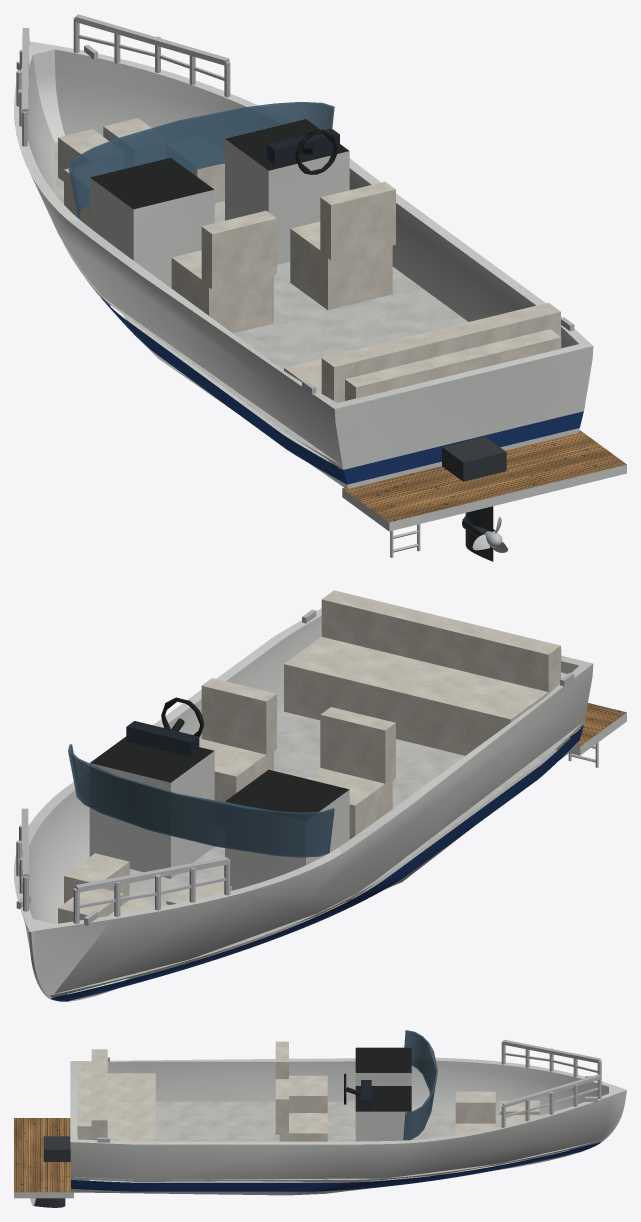
The model's file is boat_speedboat.glb.
3 views of the same model, one above another, from view 1: azimuth 30°, elevation 25°; view 2: azimuth 150°, elevation 25°; view 3: azimuth 270°, elevation 25° (orthographic). The views are drawn at different scales.
Parts seen in each view (by area): view 1: Engine hatch and swim platform, Hull, Helm console and windscreen, Bow rails and cleats, Sterndrive; view 2: Engine hatch and swim platform, Helm console and windscreen, Hull, Bow rails and cleats; view 3: Engine hatch and swim platform, Hull, Helm console and windscreen, Bow rails and cleats, Sterndrive.
Boxes of the visible parts, x1,y1,x2,y2 form: Engine hatch and swim platform: (14,41,626,531); Hull: (54,142,583,484); Helm console and windscreen: (68,102,348,218); Bow rails and cleats: (16,14,574,557); Sterndrive: (442,436,506,561); Engine hatch and swim platform: (14,590,626,1001); Helm console and windscreen: (68,697,349,857); Hull: (49,705,583,1001); Bow rails and cleats: (16,609,598,925); Engine hatch and swim platform: (14,1041,626,1198); Hull: (71,1101,602,1191); Helm console and windscreen: (344,1030,437,1140); Bow rails and cleats: (30,1039,601,1205); Sterndrive: (34,1136,70,1207).
Size of the model in its own units: 2.73 by 2.23 by 8.2.
Materials: 10 (5 with a texture image).
